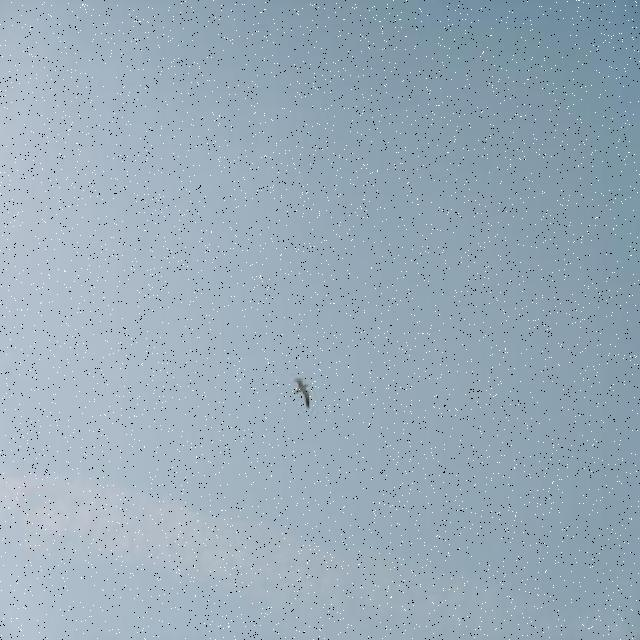bird: (293, 377, 312, 408)
